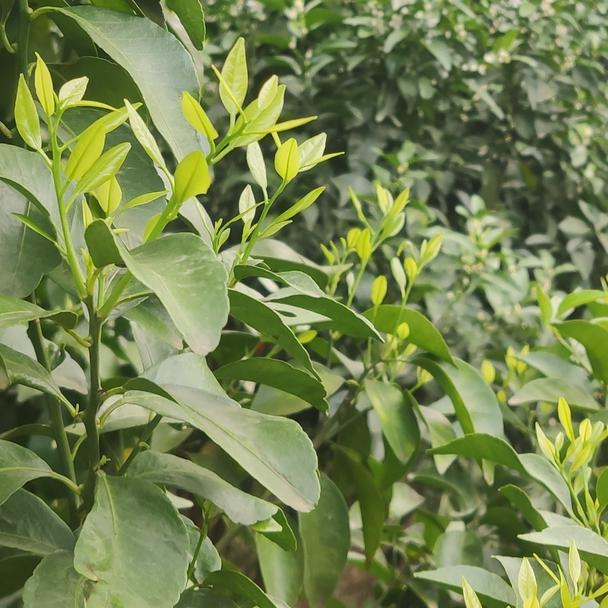shoot: (132, 45, 302, 266), (12, 55, 130, 271), (241, 133, 341, 287)
